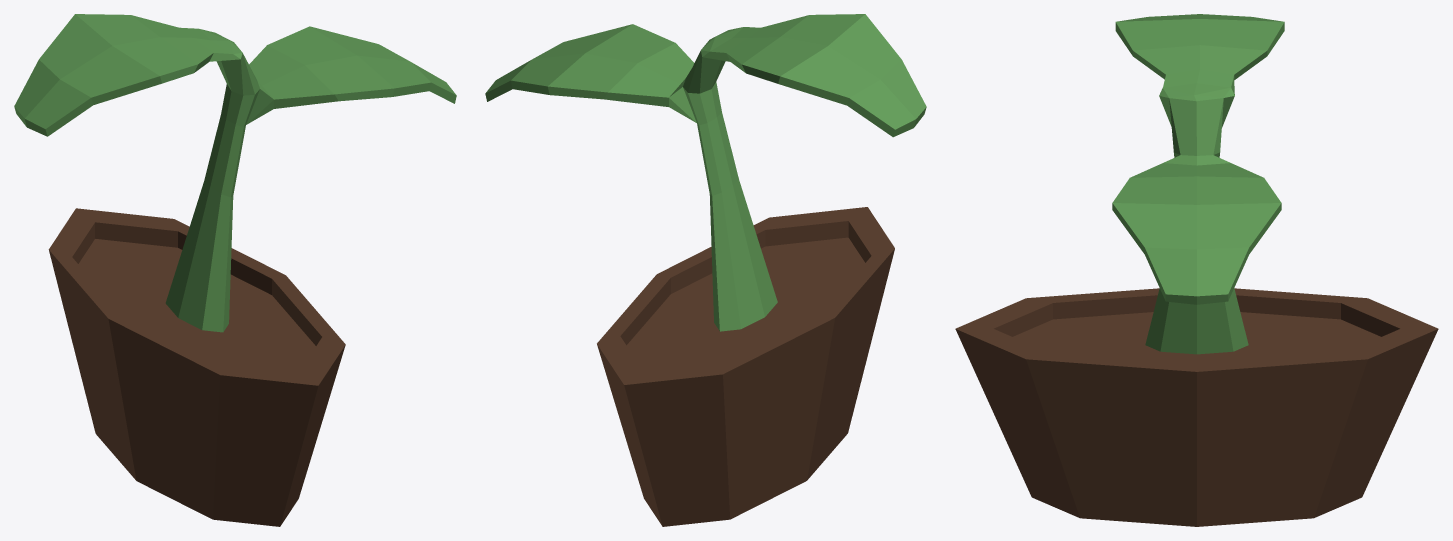
File: qt-plant.glb
3 renders of one model, left to right at view 1: azimuth 30°, elevation 25°; view 2: azimuth 150°, elevation 25°; view 3: azimuth 270°, elevation 25°, orthographic.
Parts seen in each view (by area): view 1: Plant_Cylinder; view 2: Plant_Cylinder; view 3: Plant_Cylinder.
Boxes of the visible parts, x1,y1,x2,y2 form: Plant_Cylinder: [14, 14, 456, 526]; Plant_Cylinder: [485, 14, 926, 526]; Plant_Cylinder: [955, 14, 1438, 526].
Size of the model in its own units: 1 by 1 by 1.
